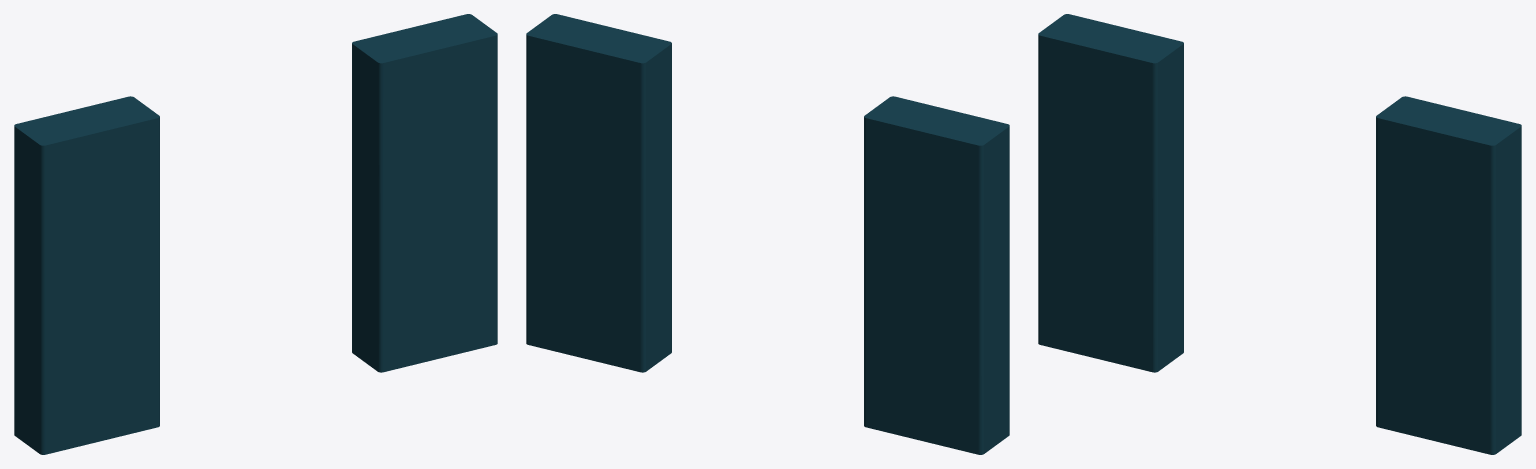
Rendered from cabinet_glazing.dae.
3 renders of one model, left to right at view 1: azimuth 30°, elevation 25°; view 2: azimuth 150°, elevation 25°; view 3: azimuth 330°, elevation 25°, orthographic.
Visible parts, largest first — view 1: node; view 2: node; view 3: node.
Boxes of the visible parts, left/top/right/bottom form: node: left=14, top=14, right=497, bottom=454; node: left=526, top=14, right=1009, bottom=454; node: left=1038, top=14, right=1521, bottom=454.
Bounding box in the file's own units: 1.8 × 0.2 × 1.16.
